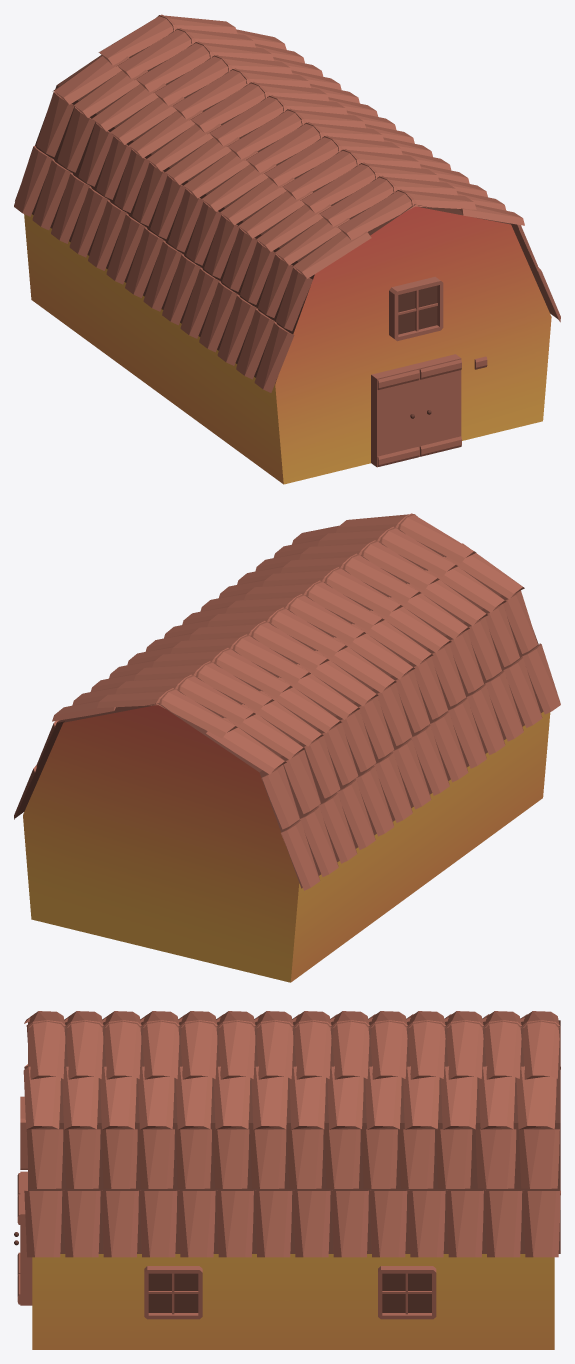
Rendered from barn_fixed.fbx.
3 renders of one model, top to bottom at view 1: azimuth 30°, elevation 25°; view 2: azimuth 150°, elevation 25°; view 3: azimuth 270°, elevation 25°, orthographic. The views are drawn at different scales.
Visible parts, largest first — view 1: Cylinder; view 2: Cylinder; view 3: Cylinder.
Part boxes in pixels (x1,y1,x2,y2): Cylinder: (14,14,560,484); Cylinder: (14,513,560,982); Cylinder: (14,1011,560,1349).
Size of the model in its own units: 967 by 791 by 1486.
